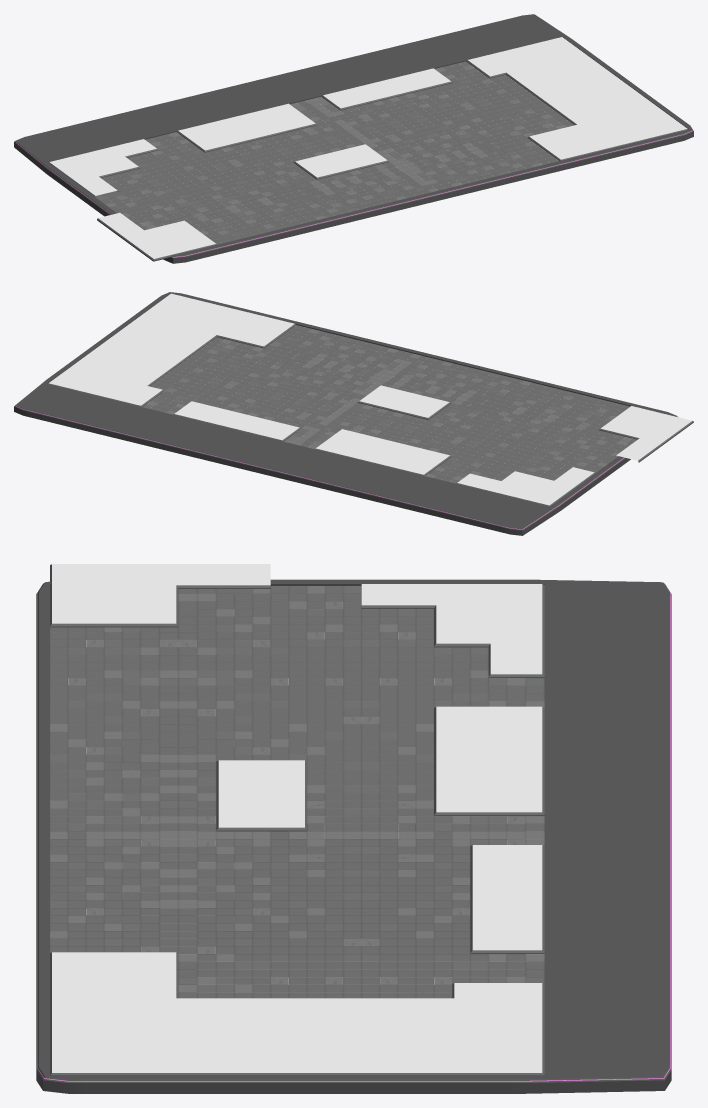
Rendered from Lower_Plaza_Floor.fbx.
The picture shows the model from 3 angles, top to bottom: view 1: azimuth 30°, elevation 25°; view 2: azimuth 150°, elevation 25°; view 3: azimuth 270°, elevation 25°; orthographic projection. The views are drawn at different scales.
Visible parts, largest first — view 1: Plaza_Floor; view 2: Plaza_Floor; view 3: Plaza_Floor.
Part boxes in pixels (box(x1,y1,x2,y2)): Plaza_Floor: box(14, 14, 693, 263); Plaza_Floor: box(14, 292, 693, 535); Plaza_Floor: box(36, 564, 671, 1093).
Size of the model in its own units: 404 by 5.16 by 210.
